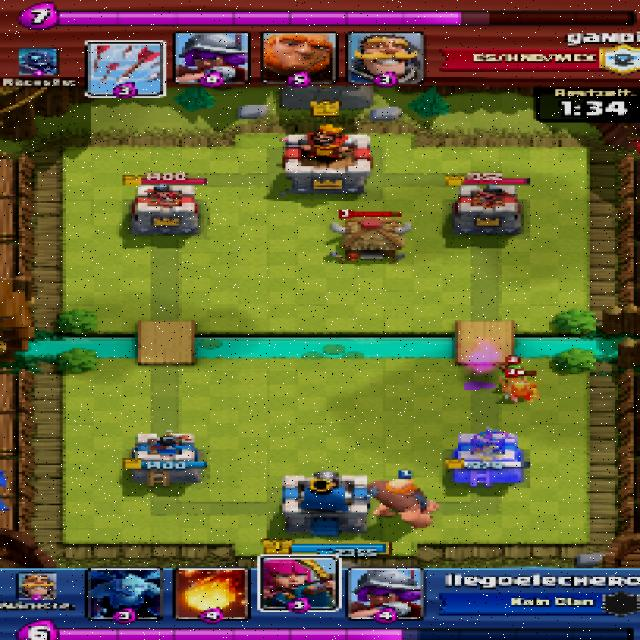Enemy-GoblinHut: (328, 220, 412, 262)
Enemy-SpearGoblin: (502, 380, 536, 403), (498, 364, 531, 378)
